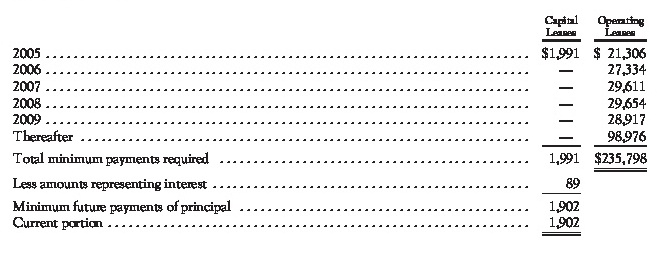table: (0, 0, 663, 260)
